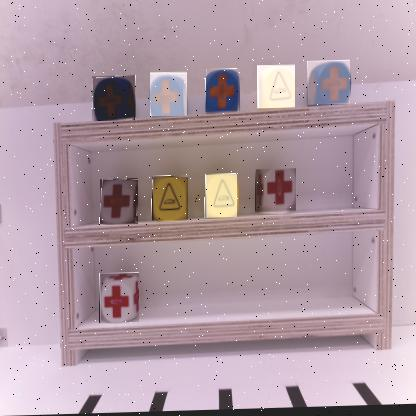CubeBlue: (94, 77, 138, 124), (308, 63, 352, 109), (151, 74, 189, 119), (207, 71, 241, 116)
CubeRed: (100, 274, 141, 326), (256, 172, 298, 217), (101, 180, 140, 228)
CubeYellow: (258, 67, 297, 112), (153, 178, 190, 224), (206, 176, 239, 221)
